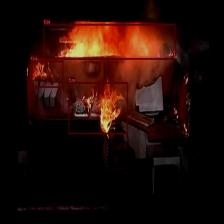fire: (43, 24, 176, 59), (68, 82, 128, 134), (30, 61, 63, 87)
